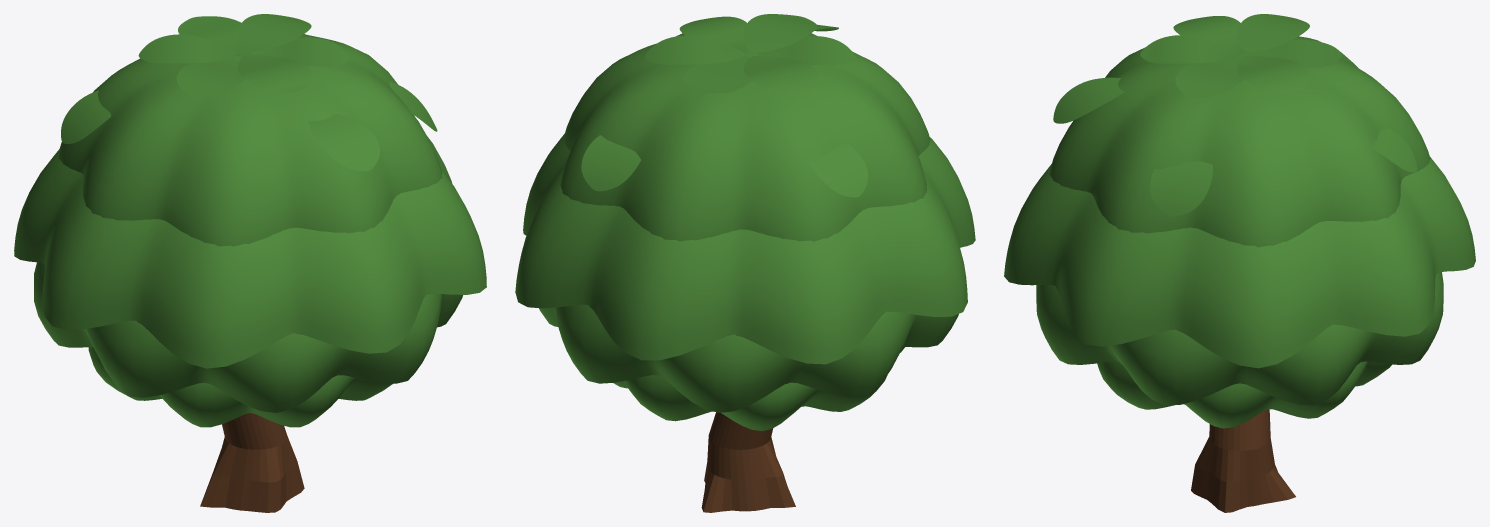
Rendered from tree.fbx.
The picture shows the model from 3 angles, left to right: view 1: azimuth 30°, elevation 25°; view 2: azimuth 150°, elevation 25°; view 3: azimuth 270°, elevation 25°; orthographic projection.
Visible parts, largest first — view 1: Plane.006, Cylinder; view 2: Plane.006, Cylinder; view 3: Plane.006, Cylinder.
Part boxes in pixels (bbox=[...]): Plane.006: bbox=[14, 14, 486, 427]; Cylinder: bbox=[200, 413, 304, 512]; Plane.006: bbox=[515, 14, 975, 431]; Cylinder: bbox=[701, 412, 795, 512]; Plane.006: bbox=[1004, 14, 1475, 428]; Cylinder: bbox=[1191, 409, 1295, 512].
Bounding box in the file's own units: 215 × 221 × 215.
